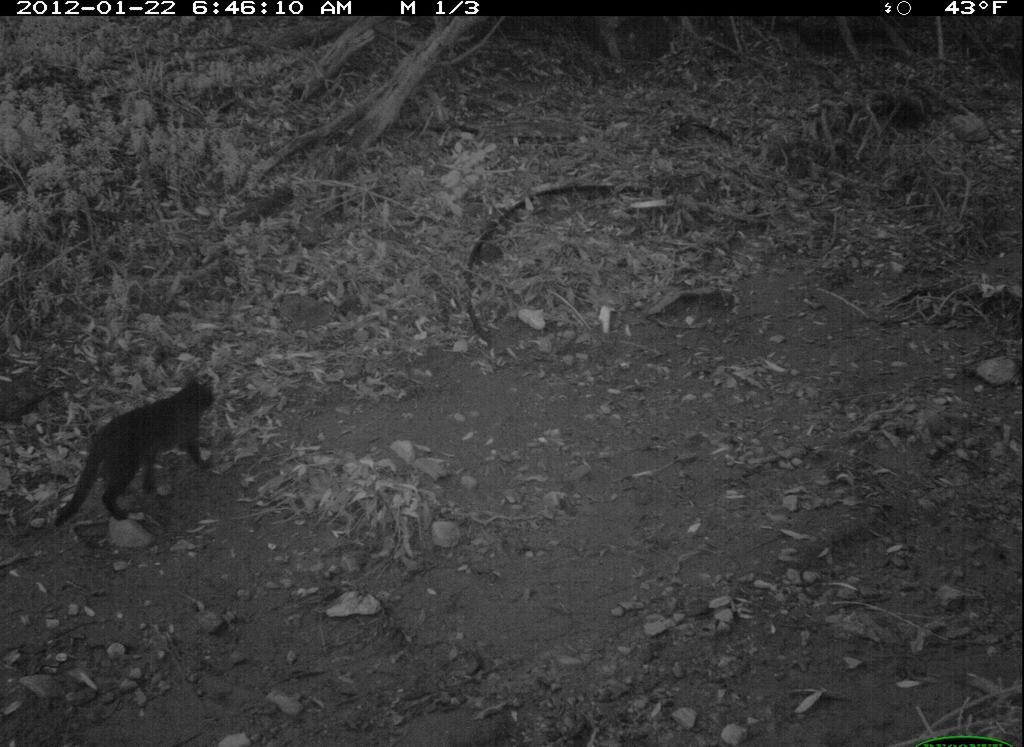cat: (40, 356, 242, 547)
